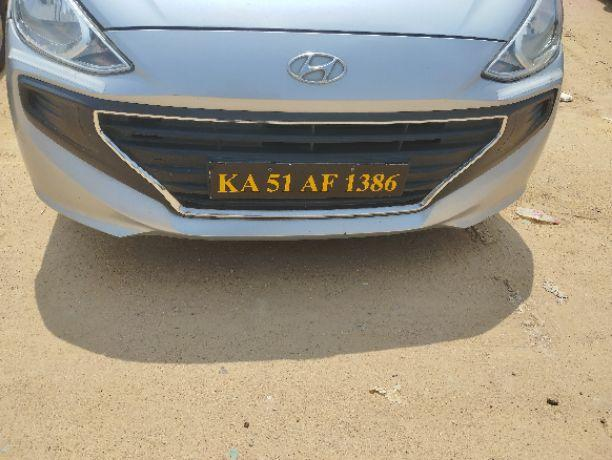license_plate: (205, 160, 409, 200)
